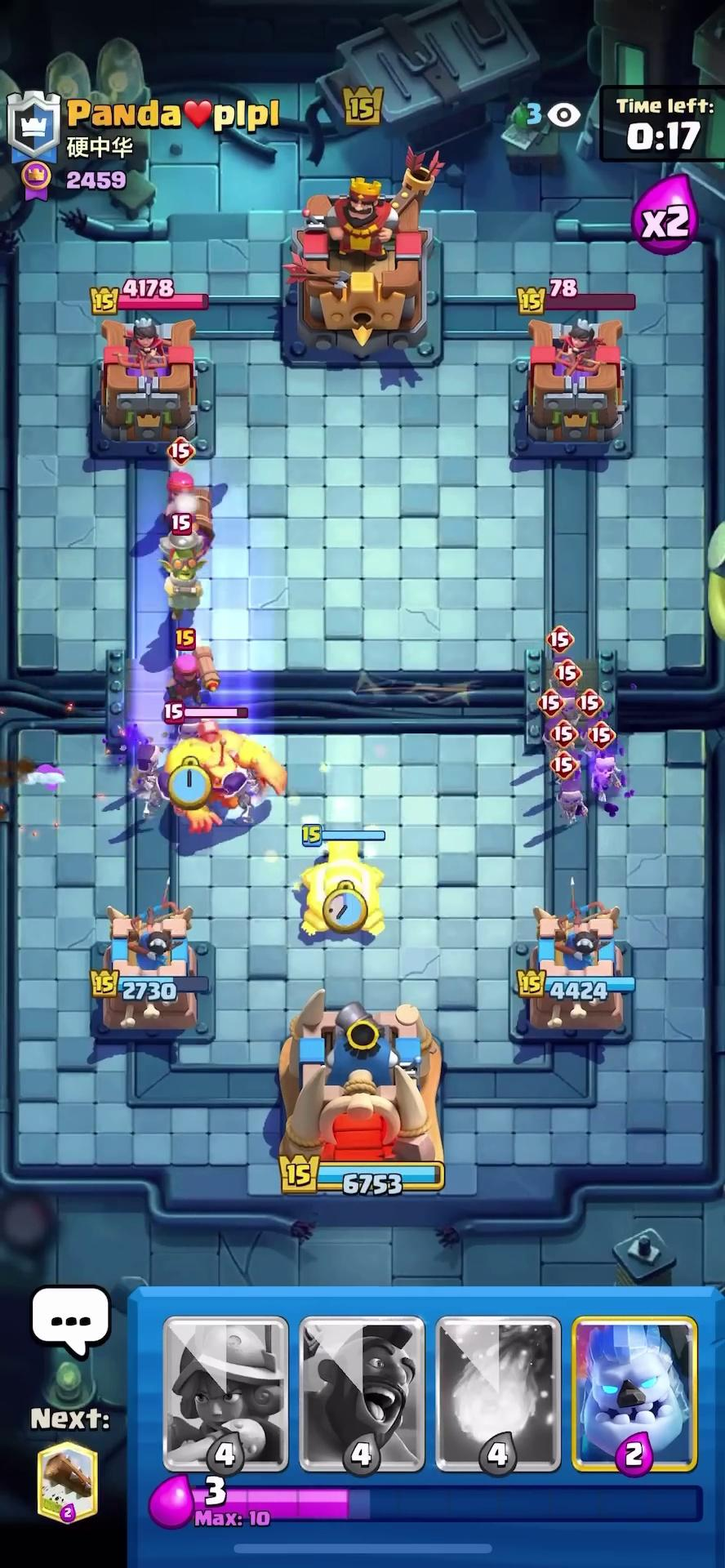cannon: (282, 827, 386, 937)
evo_skeletons: (133, 741, 176, 804), (222, 770, 265, 806)
